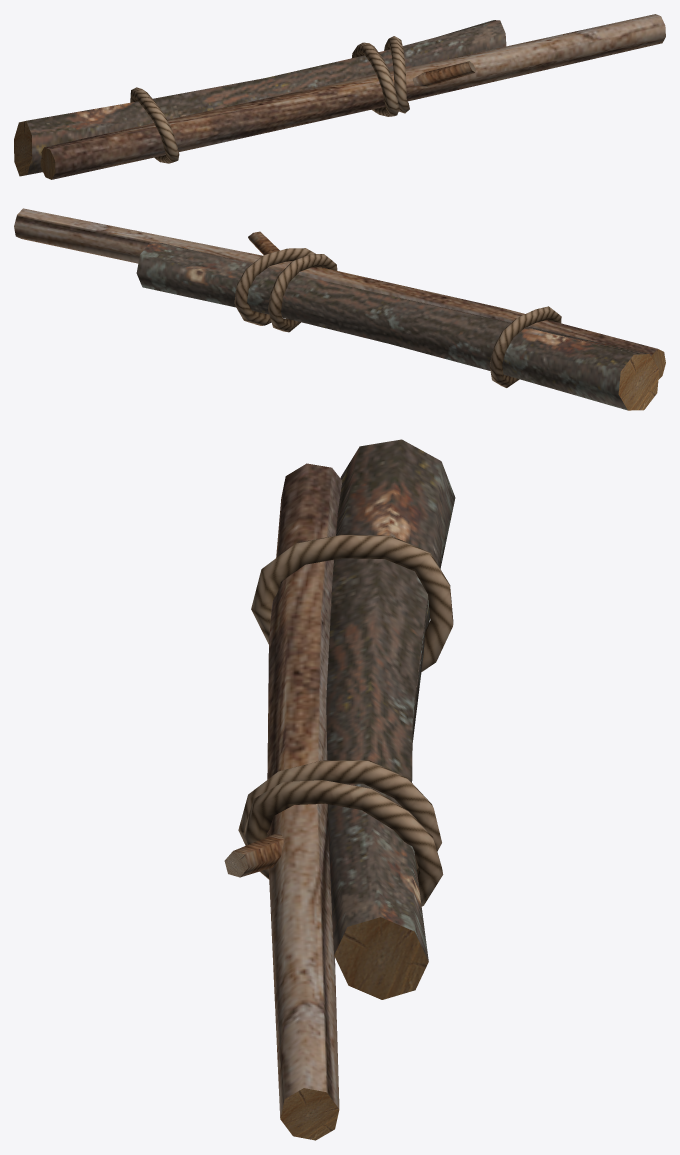
Rendered from village_wood_stick_04.fbx.
The picture shows the model from 3 angles, top to bottom: view 1: azimuth 30°, elevation 25°; view 2: azimuth 150°, elevation 25°; view 3: azimuth 270°, elevation 25°; orthographic projection. The views are drawn at different scales.
Visible parts, largest first — view 1: village_wood_stick_04; view 2: village_wood_stick_04; view 3: village_wood_stick_04.
Part boxes in pixels (bbox=[...]): village_wood_stick_04: bbox=[14, 14, 665, 179]; village_wood_stick_04: bbox=[14, 208, 665, 410]; village_wood_stick_04: bbox=[224, 439, 455, 1140].
Size of the model in its own units: 214 by 23.44 by 34.52.
